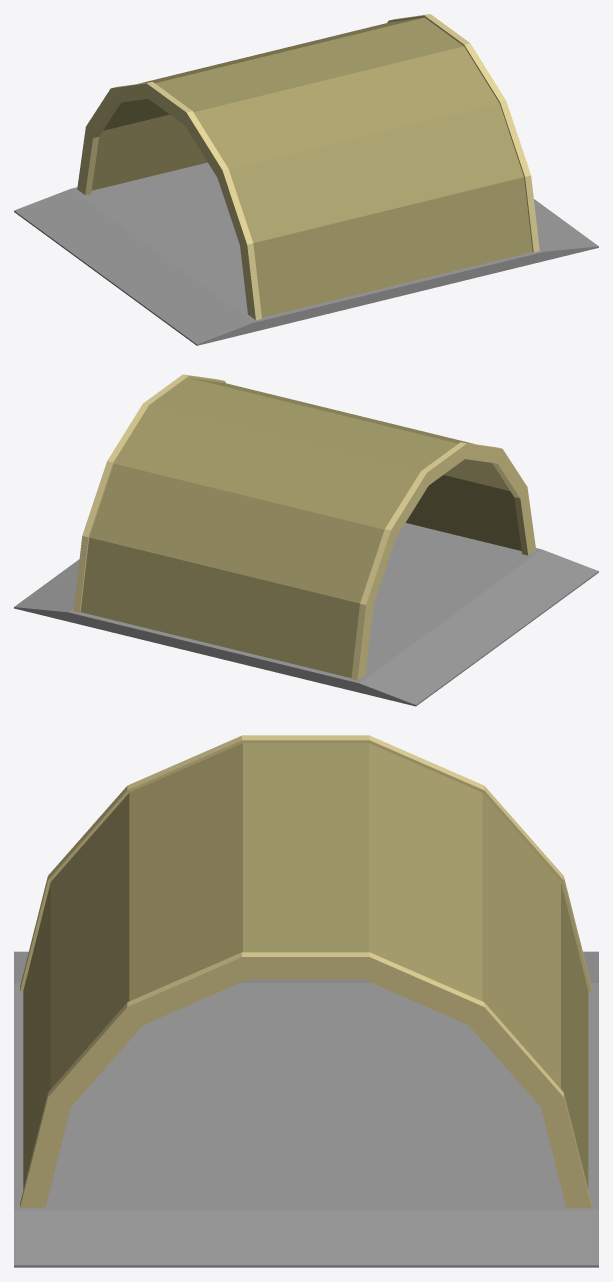
File: hangar.fbx
The picture shows the model from 3 angles, top to bottom: view 1: azimuth 30°, elevation 25°; view 2: azimuth 150°, elevation 25°; view 3: azimuth 270°, elevation 25°; orthographic projection. The views are drawn at different scales.
Visible parts, largest first — view 1: Cube_1; view 2: Cube_1; view 3: Cube_1.
Part boxes in pixels (x1,y1,x2,y2): Cube_1: (14,14,598,345); Cube_1: (14,374,598,706); Cube_1: (14,735,598,1267).
Bounding box in the file's own units: 1679 × 664 × 1323.
